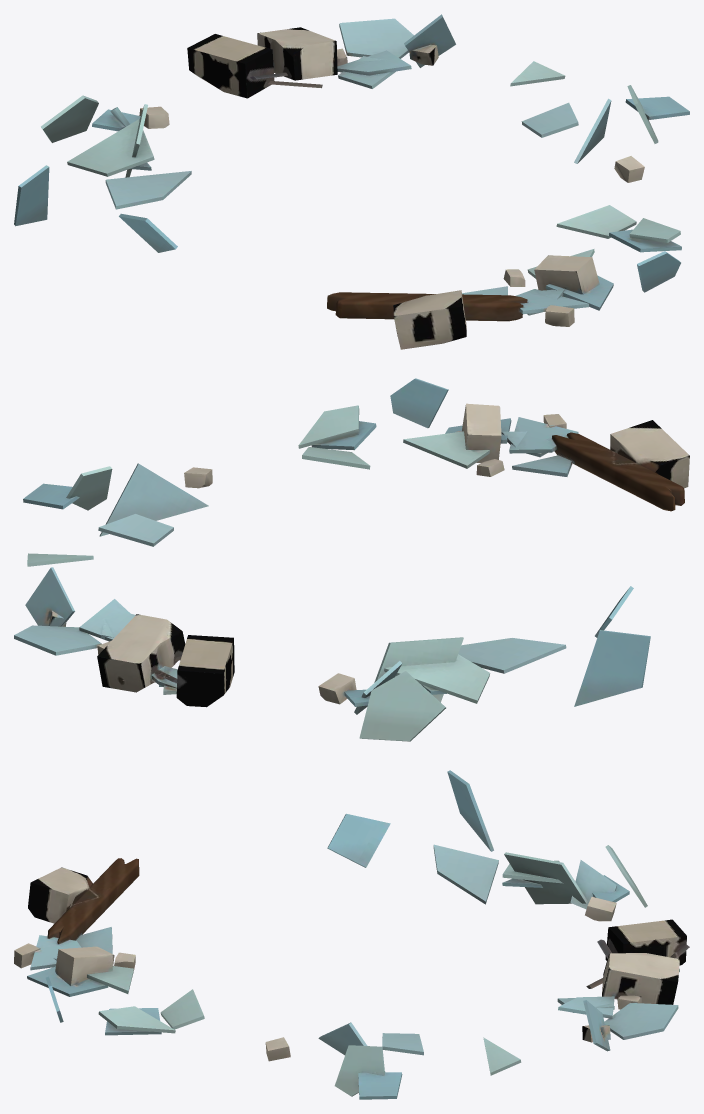
File: rough-glass-3.glb
The picture shows the model from 3 angles, top to bottom: view 1: azimuth 30°, elevation 25°; view 2: azimuth 150°, elevation 25°; view 3: azimuth 270°, elevation 25°; orthographic projection. The views are drawn at different scales.
Visible parts, largest first — view 1: rough-glass-3; view 2: rough-glass-3; view 3: rough-glass-3.
Part boxes in pixels (box(x1,y1,x2,y2)): rough-glass-3: box(14, 14, 689, 349); rough-glass-3: box(14, 378, 689, 741); rough-glass-3: box(14, 770, 689, 1099).
Size of the model in its own units: 1.54 by 0.1662 by 1.53.
Materials: 1 (1 with a texture image).
